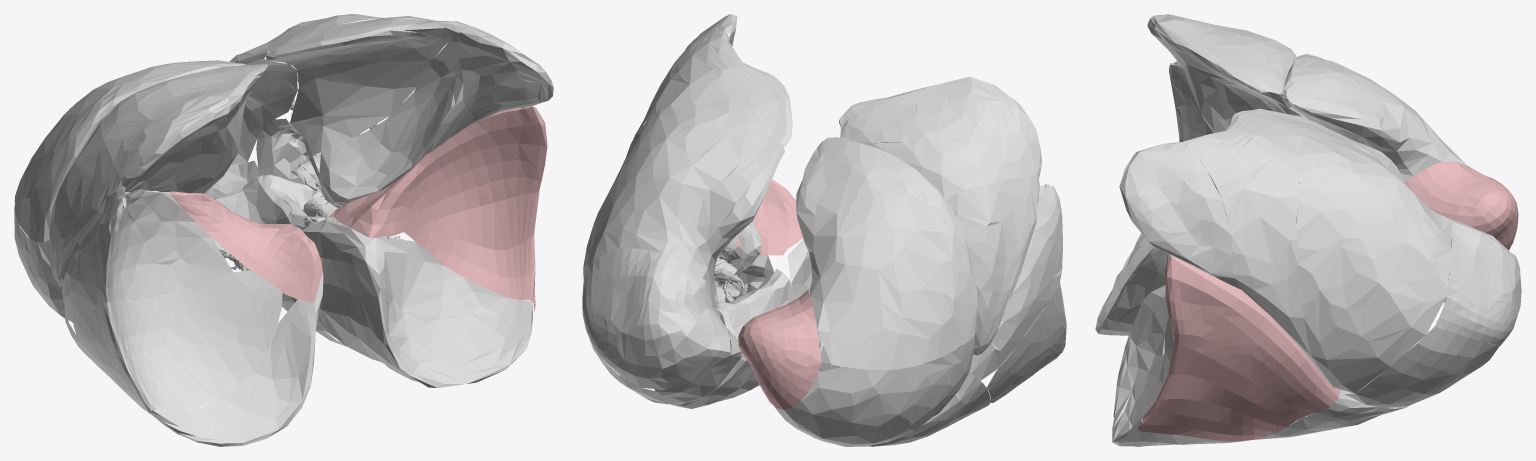
Rendered from lung-male.glb.
The picture shows the model from 3 angles, left to right: view 1: azimuth 30°, elevation 25°; view 2: azimuth 150°, elevation 25°; view 3: azimuth 270°, elevation 25°; orthographic projection. The views are drawn at different scales.
Visible parts, largest first — view 1: VH_M_left_posetrior_basal_bronchopulmonary_segment, VH_M_right_lateral_basal_bronchopulmonary_segment, VH_M_left_lingula_inferior_bronchopulmonary_segment, VH_M_left_lingula_superior_bronchopulmonary_segment, VH_M_right_medial_bronchopulmonary_segment, VH_M_right_anterior_basal_bronchopulmonary_segment, VH_M_left_anterior_basal_bronchopulmonary_segment, VH_M_right_posterior_basal_bronchopulmonary_segment, VH_M_left_lateral_basal_bronchopulmonary_segment, VH_M_right_anterior_bronchopulmonary_segment, VH_M_right_medial_basal_bronchopulmonary_segment, VH_M_right_lateral_bronchopulmonary_segment (+7 smaller); view 2: VH_M_right_anterior_bronchopulmonary_segment, VH_M_left_anterior_bronchopulmonary_segment, VH_M_left_apical_bronchopulmonary_segment, VH_M_right_medial_bronchopulmonary_segment, VH_M_right_posterior_bronchopulmonary_segment, VH_M_right_lateral_bronchopulmonary_segment, VH_M_left_lingula_superior_bronchopulmonary_segment, VH_M_right_apical_bronchopulmonary_segment, VH_M_right_anterior_basal_bronchopulmonary_segment, VH_M_right_lateral_basal_bronchopulmonary_segment, VH_M_left_superior_bronchopulmonary_segment, VH_M_left_medial_basal_bronchopulmonary_segment (+6 smaller); view 3: VH_M_left_anterior_bronchopulmonary_segment, VH_M_left_lingula_superior_bronchopulmonary_segment, VH_M_left_anterior_basal_bronchopulmonary_segment, VH_M_left_lingula_inferior_bronchopulmonary_segment, VH_M_right_medial_bronchopulmonary_segment, VH_M_right_anterior_bronchopulmonary_segment, VH_M_left_lateral_basal_bronchopulmonary_segment, VH_M_left_apical_bronchopulmonary_segment, VH_M_left_posetrior_basal_bronchopulmonary_segment, VH_M_left_posterior_bronchopulmonary_segment, VH_M_right_apical_bronchopulmonary_segment, VH_M_right_posterior_basal_bronchopulmonary_segment (+3 smaller).
Boxes of the visible parts, <box> form: VH_M_left_posetrior_basal_bronchopulmonary_segment: <box>302,219,533,387</box>; VH_M_right_lateral_basal_bronchopulmonary_segment: <box>73,270,282,413</box>; VH_M_left_lingula_inferior_bronchopulmonary_segment: <box>319,26,553,205</box>; VH_M_left_lingula_superior_bronchopulmonary_segment: <box>265,16,471,155</box>; VH_M_right_medial_bronchopulmonary_segment: <box>101,64,267,194</box>; VH_M_right_anterior_basal_bronchopulmonary_segment: <box>62,190,232,323</box>; VH_M_left_anterior_basal_bronchopulmonary_segment: <box>369,106,547,237</box>; VH_M_right_posterior_basal_bronchopulmonary_segment: <box>149,269,323,446</box>; VH_M_left_lateral_basal_bronchopulmonary_segment: <box>404,191,539,312</box>; VH_M_right_anterior_bronchopulmonary_segment: <box>15,60,246,242</box>; VH_M_right_medial_basal_bronchopulmonary_segment: <box>170,191,322,302</box>; VH_M_right_lateral_bronchopulmonary_segment: <box>49,122,123,282</box>; VH_M_right_anterior_bronchopulmonary_segment: <box>796,137,977,370</box>; VH_M_left_anterior_bronchopulmonary_segment: <box>583,104,784,282</box>; VH_M_left_apical_bronchopulmonary_segment: <box>582,248,730,389</box>; VH_M_right_medial_bronchopulmonary_segment: <box>839,76,1042,199</box>; VH_M_right_posterior_bronchopulmonary_segment: <box>774,335,974,446</box>; VH_M_right_lateral_bronchopulmonary_segment: <box>946,174,1039,355</box>; VH_M_left_lingula_superior_bronchopulmonary_segment: <box>634,30,792,243</box>; VH_M_right_apical_bronchopulmonary_segment: <box>738,290,821,409</box>; VH_M_right_anterior_basal_bronchopulmonary_segment: <box>947,184,1062,380</box>; VH_M_right_lateral_basal_bronchopulmonary_segment: <box>987,283,1066,402</box>; VH_M_left_superior_bronchopulmonary_segment: <box>654,269,795,408</box>; VH_M_left_medial_basal_bronchopulmonary_segment: <box>730,179,802,256</box>; VH_M_left_anterior_bronchopulmonary_segment: <box>1296,121,1452,393</box>; VH_M_left_lingula_superior_bronchopulmonary_segment: <box>1183,108,1332,386</box>; VH_M_left_anterior_basal_bronchopulmonary_segment: <box>1165,253,1338,415</box>; VH_M_left_lingula_inferior_bronchopulmonary_segment: <box>1119,142,1240,289</box>; VH_M_right_medial_bronchopulmonary_segment: <box>1147,14,1309,176</box>; VH_M_right_anterior_bronchopulmonary_segment: <box>1283,54,1466,181</box>; VH_M_left_lateral_basal_bronchopulmonary_segment: <box>1138,340,1305,441</box>; VH_M_left_apical_bronchopulmonary_segment: <box>1435,220,1521,346</box>; VH_M_left_posetrior_basal_bronchopulmonary_segment: <box>1112,285,1244,446</box>; VH_M_left_posterior_bronchopulmonary_segment: <box>1344,326,1498,407</box>; VH_M_right_apical_bronchopulmonary_segment: <box>1404,161,1518,250</box>; VH_M_right_posterior_basal_bronchopulmonary_segment: <box>1095,242,1232,335</box>.
Size of the model in its own units: 0.000259 by 0.00019 by 0.000229.
